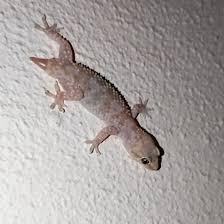lizard: (24, 9, 167, 173)
